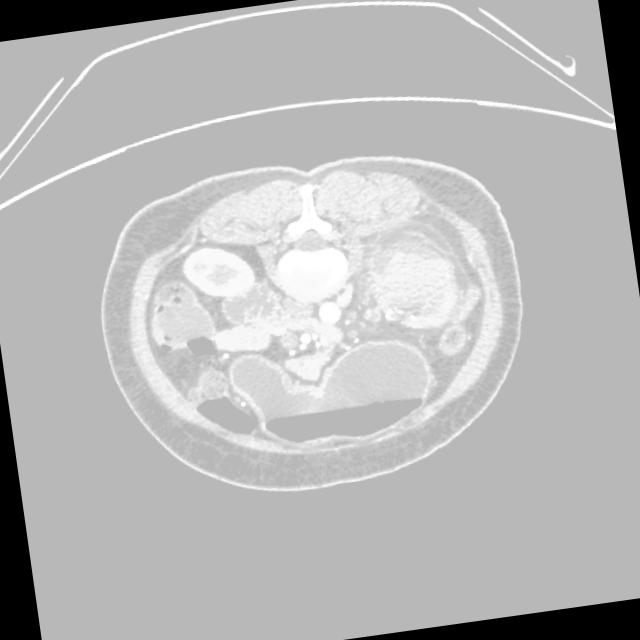TUMOR: (110, 238, 495, 482)
